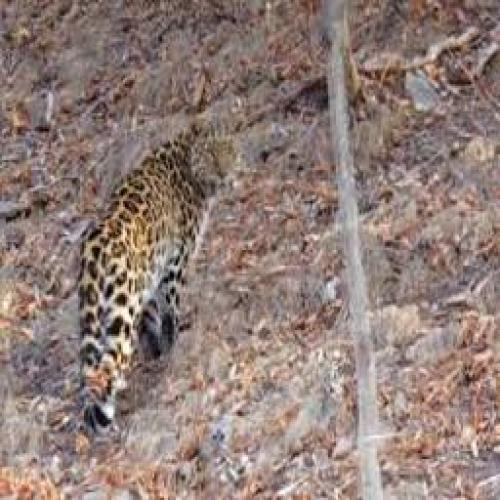amur_leopard-endangered: (70, 115, 244, 429)
